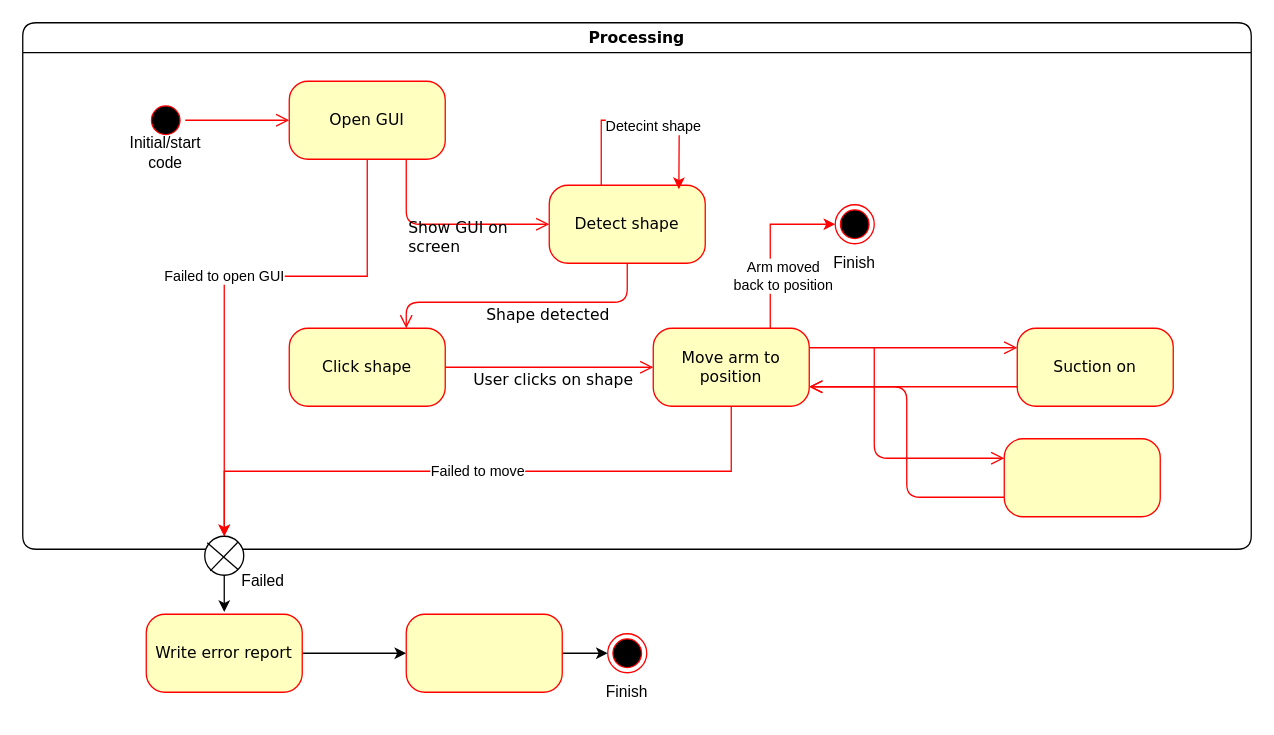
Image size: 1274x735. Some labels were removed from this diagram. The shapes that lost their labels are listed below. From the top down, each one's centre as x and y in pixels, then its label:
At [1081,477]: "Suction off".
At [483,652]: "Display results".
